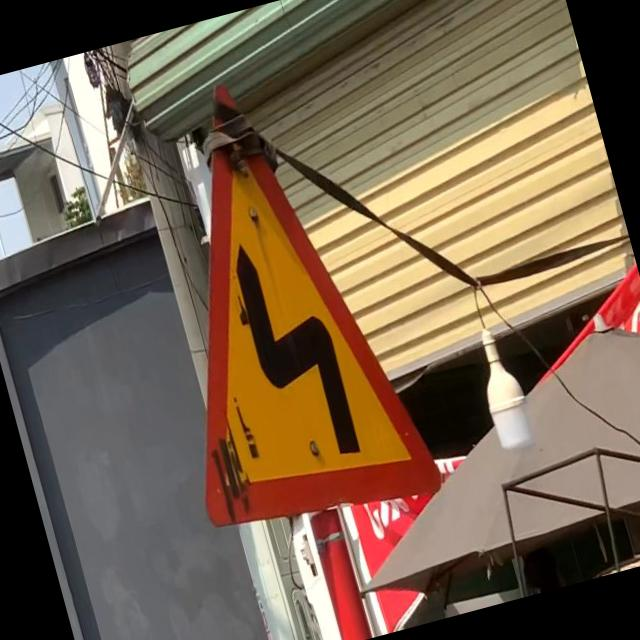W-202a: (101, 53, 444, 548)
